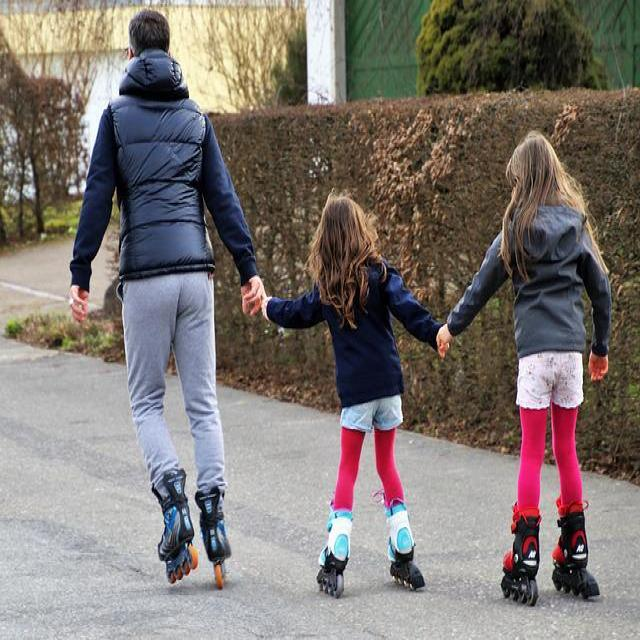adult: (71, 8, 267, 589)
child: (438, 128, 614, 606), (262, 191, 456, 595)
